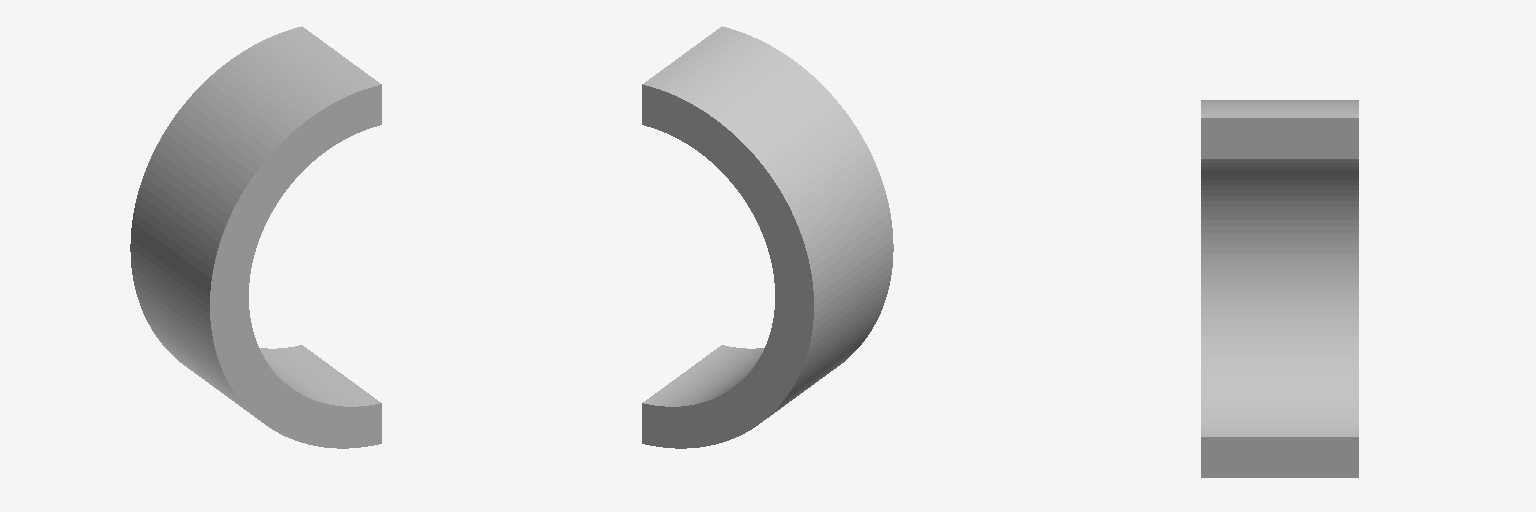
File: _03_schlepp.obj
3 renders of one model, left to right at view 1: azimuth 30°, elevation 25°; view 2: azimuth 150°, elevation 25°; view 3: azimuth 270°, elevation 25°, orthographic.
Visible parts, largest first — view 1: 0; view 2: 0; view 3: 0.
Part boxes in pixels (x1,y1,x2,y2): 0: (130, 26, 381, 448); 0: (642, 26, 893, 448); 0: (1201, 100, 1358, 477).
Bounding box in the file's own units: 282 × 564 × 226.